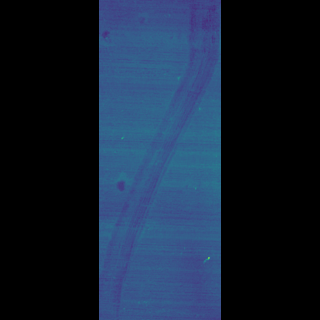Loch: (136, 2, 184, 309)
